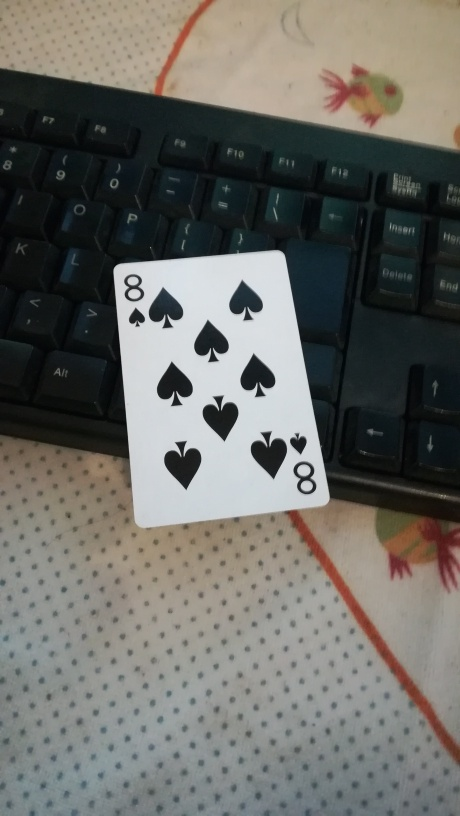ht 8: (108, 243, 337, 532)
